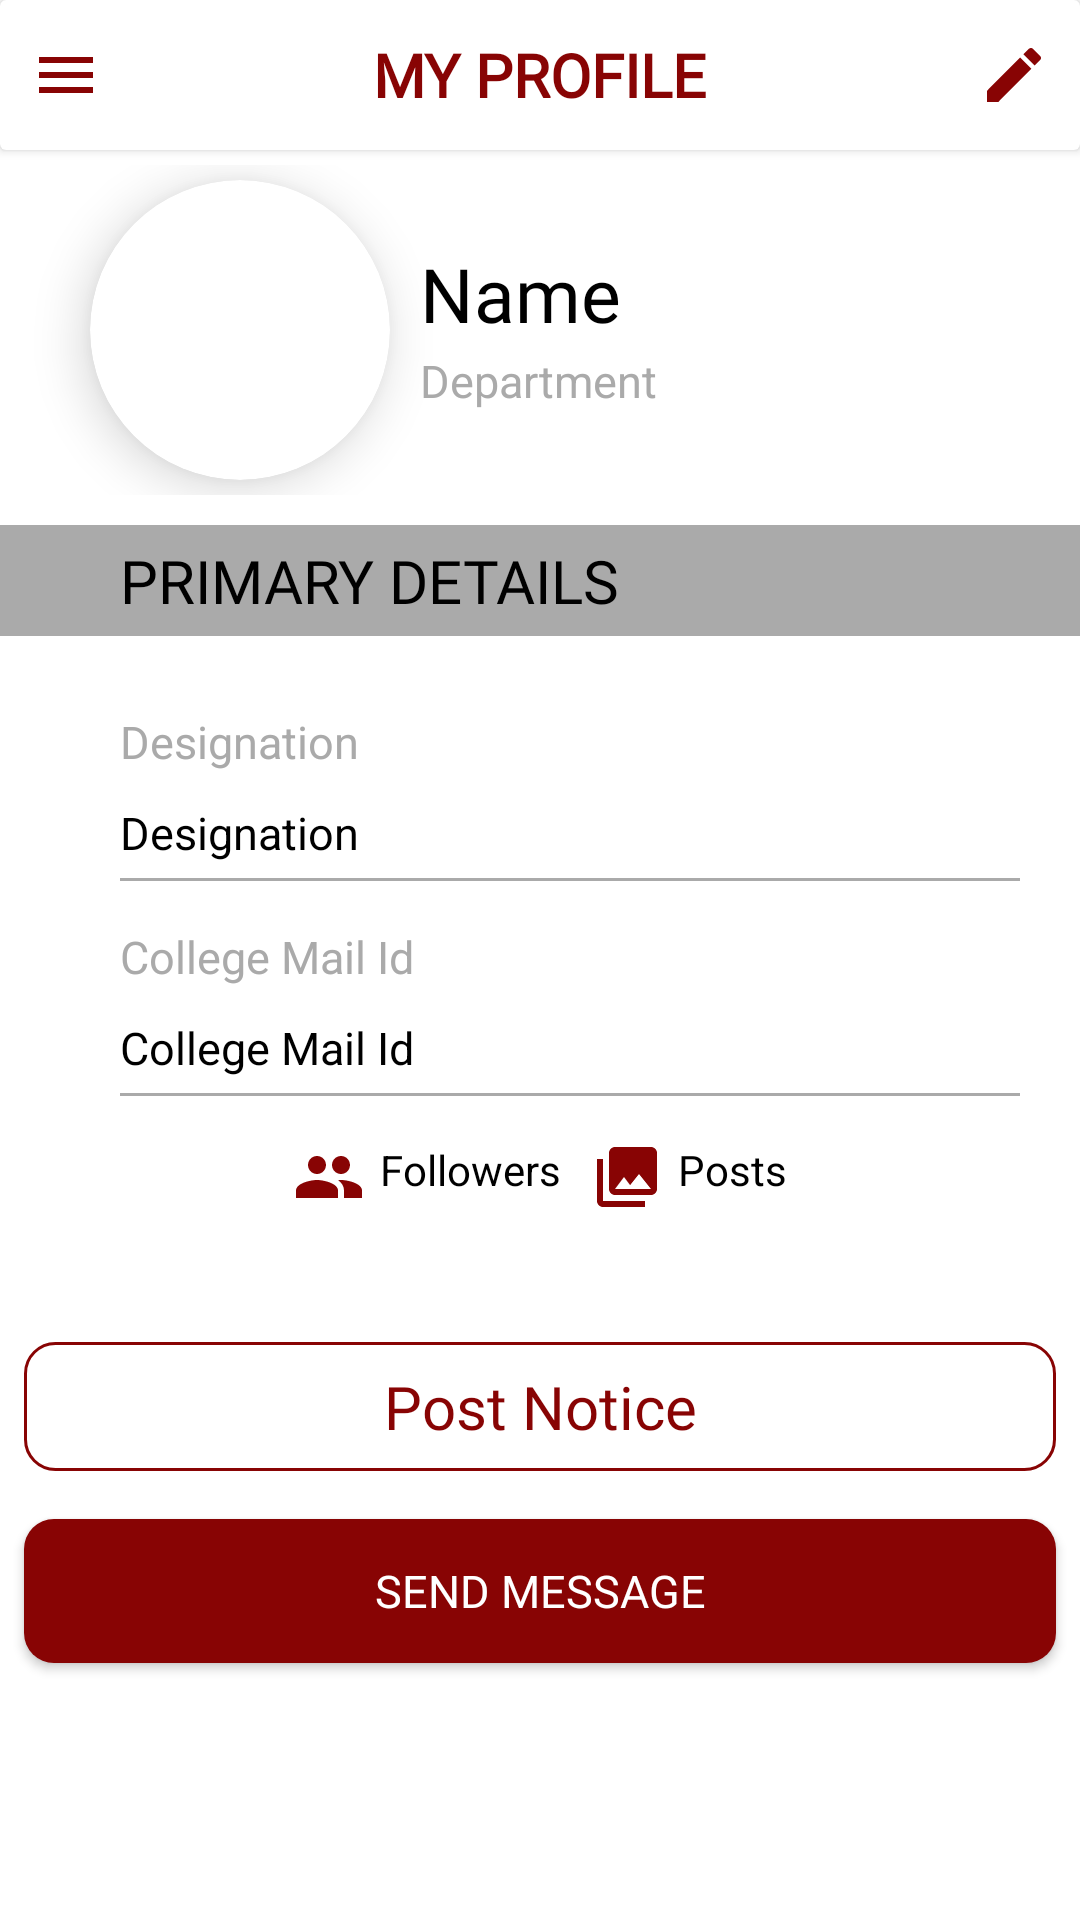

Icon bounding boxes for this 1080*1920 phone screenshot, format (x1, y1, x2, y2):
edit: (987, 48, 1041, 102)
menu: (39, 57, 93, 93)
